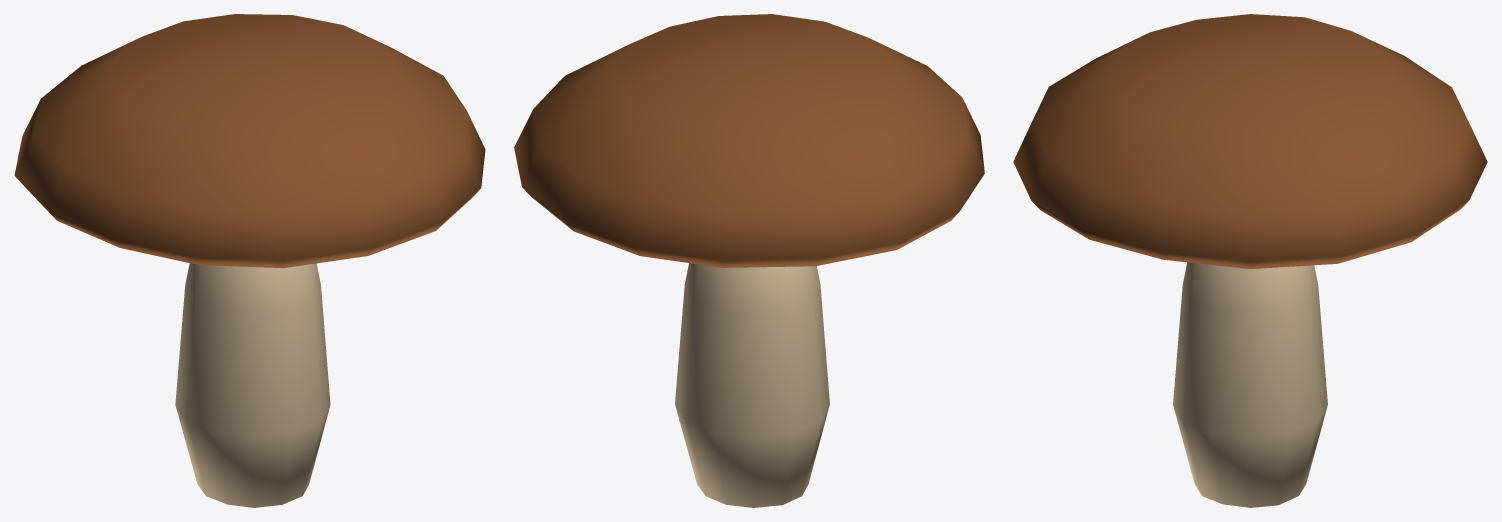
File: porcini-mature.glb
3 renders of one model, left to right at view 1: azimuth 30°, elevation 25°; view 2: azimuth 150°, elevation 25°; view 3: azimuth 270°, elevation 25°, orthographic.
Parts seen in each view (by area): view 1: fungus_porcini-mature_LOD0; view 2: fungus_porcini-mature_LOD0; view 3: fungus_porcini-mature_LOD0.
Boxes of the visible parts, x1,y1,x2,y2 form: fungus_porcini-mature_LOD0: (14, 14, 485, 507); fungus_porcini-mature_LOD0: (514, 14, 984, 507); fungus_porcini-mature_LOD0: (1013, 14, 1487, 507).
Size of the model in its own units: 0.196 by 0.194 by 0.196.
